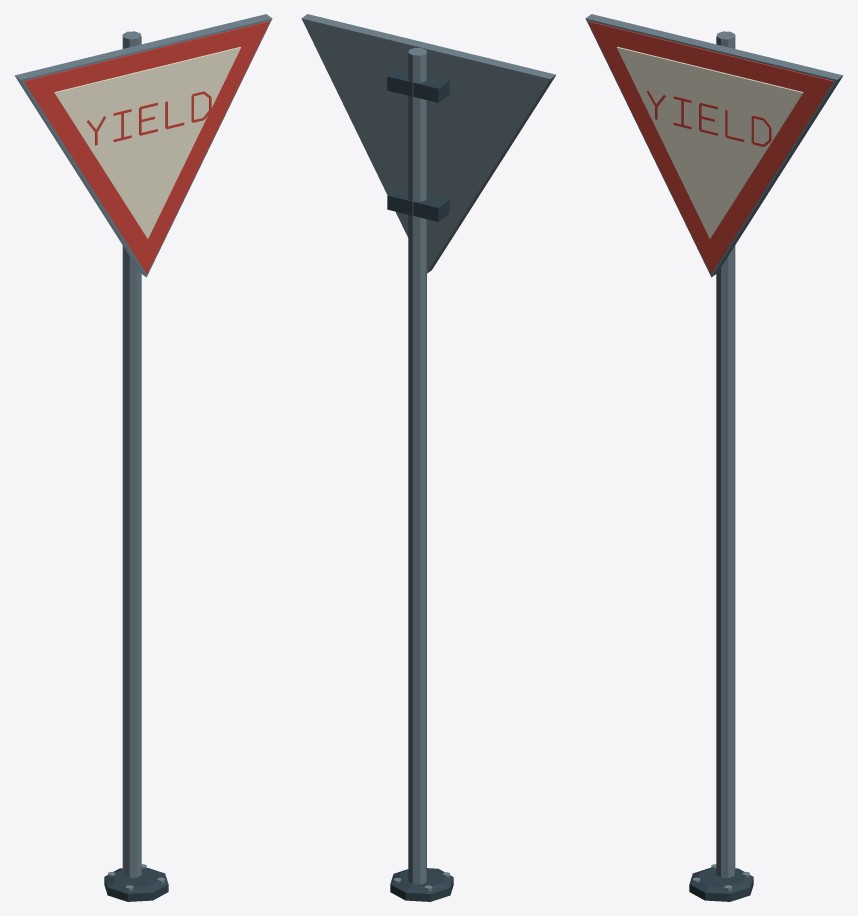
The model's file is sign_yield.glb.
3 views of the same model, side by side, from view 1: azimuth 30°, elevation 25°; view 2: azimuth 150°, elevation 25°; view 3: azimuth 330°, elevation 25° (orthographic).
Visible parts, largest first — view 1: sign_yield; view 2: sign_yield; view 3: sign_yield.
Boxes of the visible parts, left/top/right/bottom form: sign_yield: left=14, top=14, right=272, bottom=901; sign_yield: left=301, top=14, right=555, bottom=901; sign_yield: left=585, top=14, right=843, bottom=901.
Bounding box in the file's own units: 0.8314 × 2.68 × 0.19.
